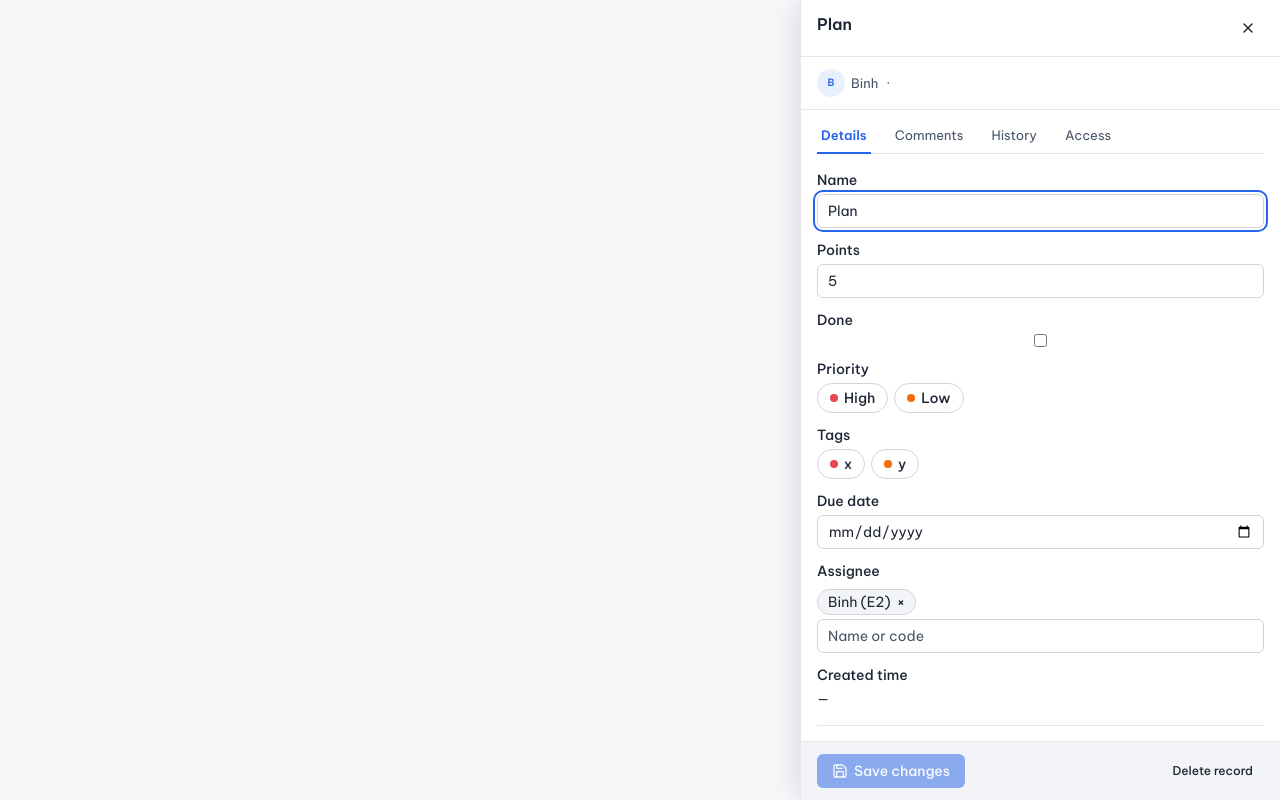
Test: saving › shows a refusal
In the field labelled "Name": x=1040, y=211 x1=817 y1=194 x2=1264 y2=228, type "!"
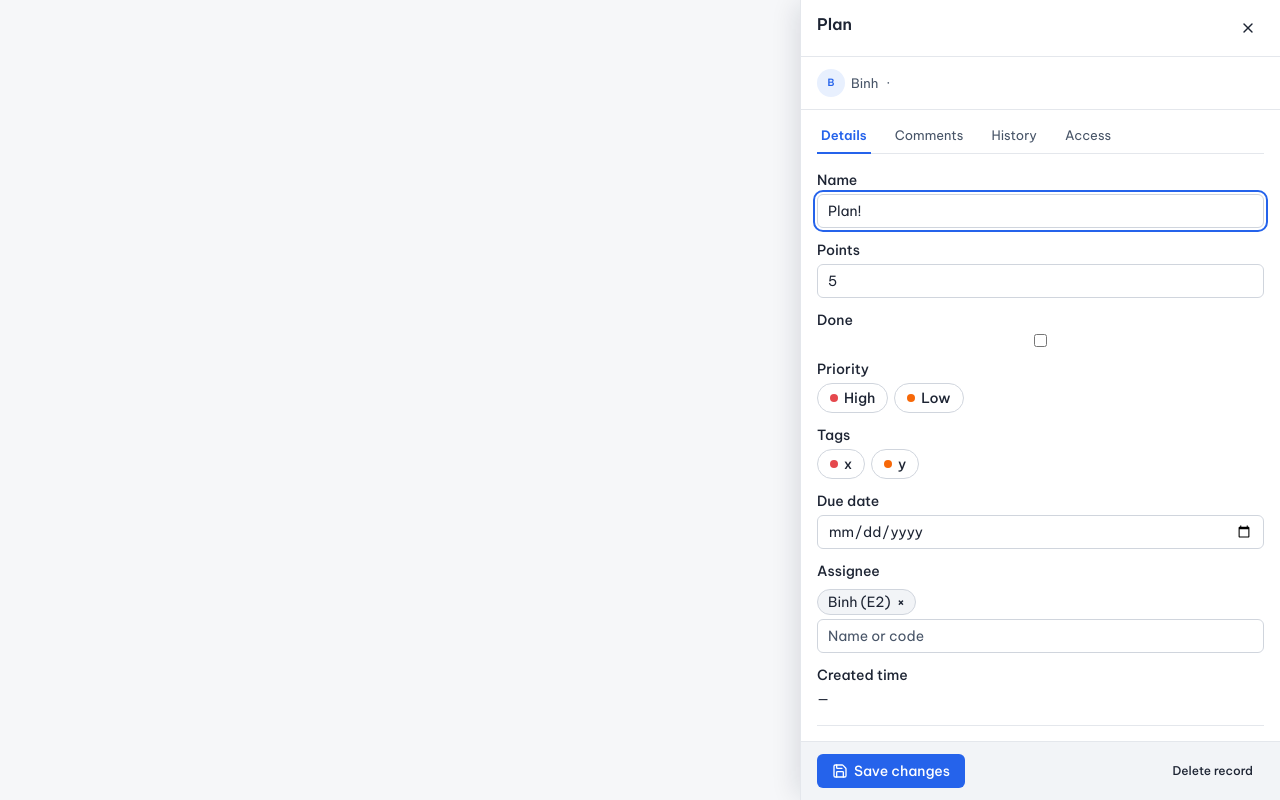
Click the button "Save changes": x=891, y=771 x1=817 y1=754 x2=965 y2=788
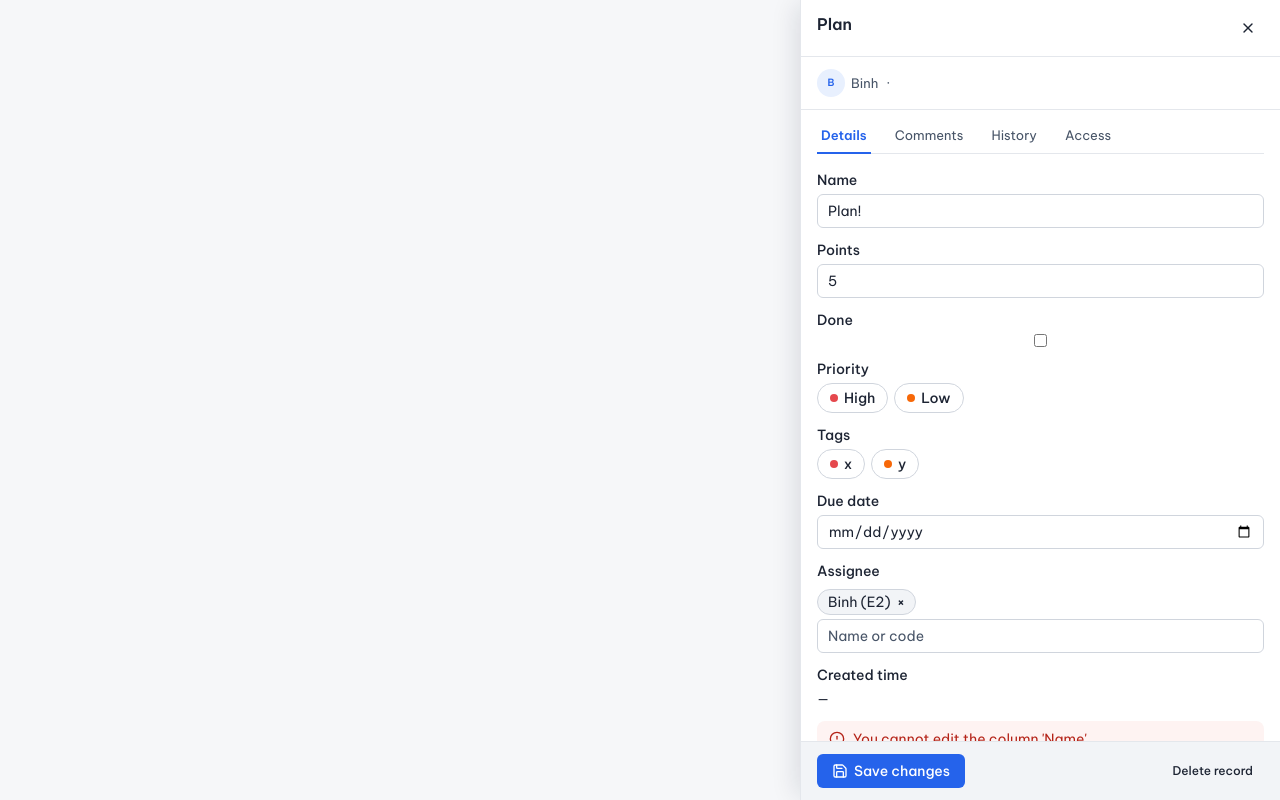
Now the text "You cannot edit the column 'Name'." is shown, box x1=853 y1=730 x2=1091 y2=741
